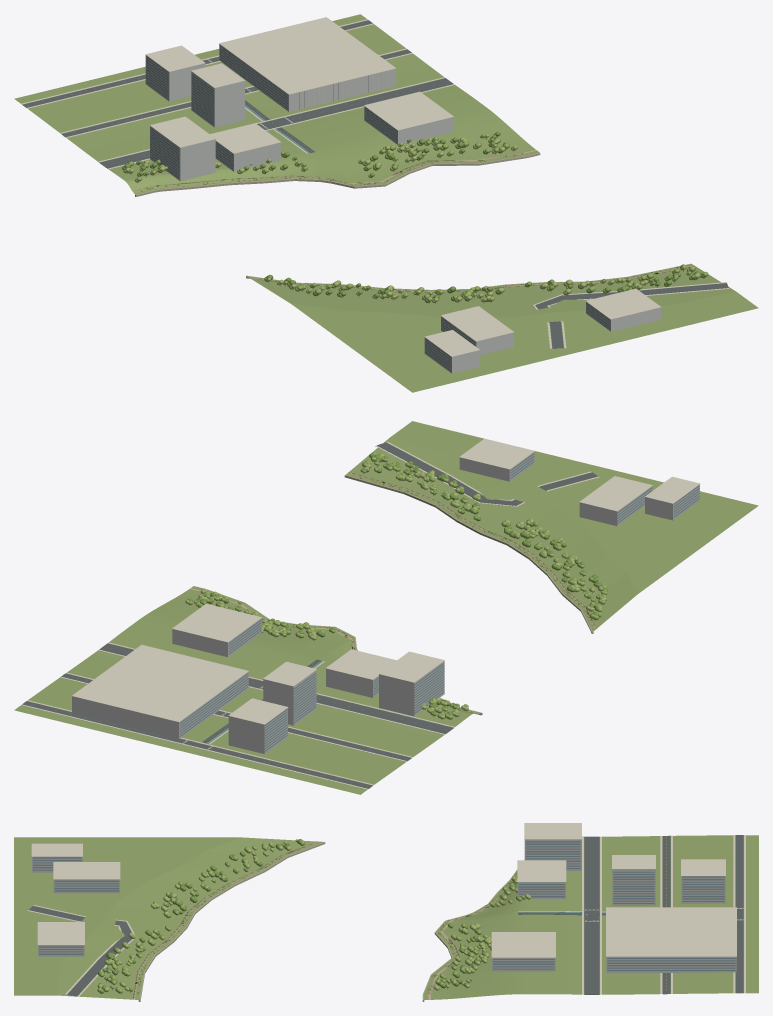
File: lady-bird-shore-context.glb
The picture shows the model from 3 angles, top to bottom: view 1: azimuth 30°, elevation 25°; view 2: azimuth 150°, elevation 25°; view 3: azimuth 270°, elevation 25°; orthographic projection. The views are drawn at different scales.
Visible parts, largest first — view 1: 40 _ Shorelines terrain and Butler Trail - approximate conte; view 2: 40 _ Shorelines terrain and Butler Trail - approximate conte; view 3: 40 _ Shorelines terrain and Butler Trail - approximate conte.
Part boxes in pixels (x1,y1,x2,y2): 40 _ Shorelines terrain and Butler Trail - approximate conte: (14, 14, 758, 392); 40 _ Shorelines terrain and Butler Trail - approximate conte: (14, 421, 758, 794); 40 _ Shorelines terrain and Butler Trail - approximate conte: (14, 823, 758, 1001).
Size of the model in its own units: 565 by 73.49 by 1115.
